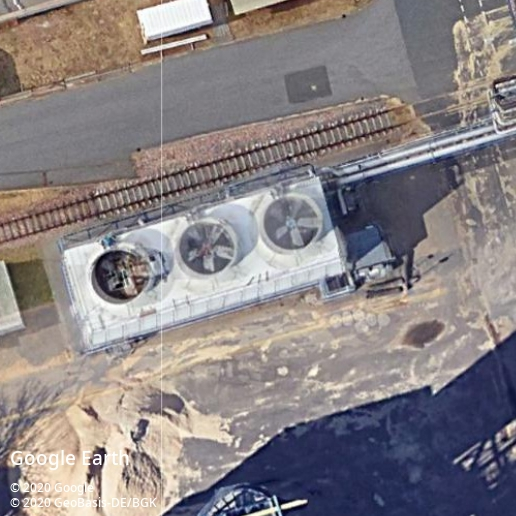Vent: (262, 193, 322, 252), (90, 248, 150, 305), (178, 219, 236, 276)
